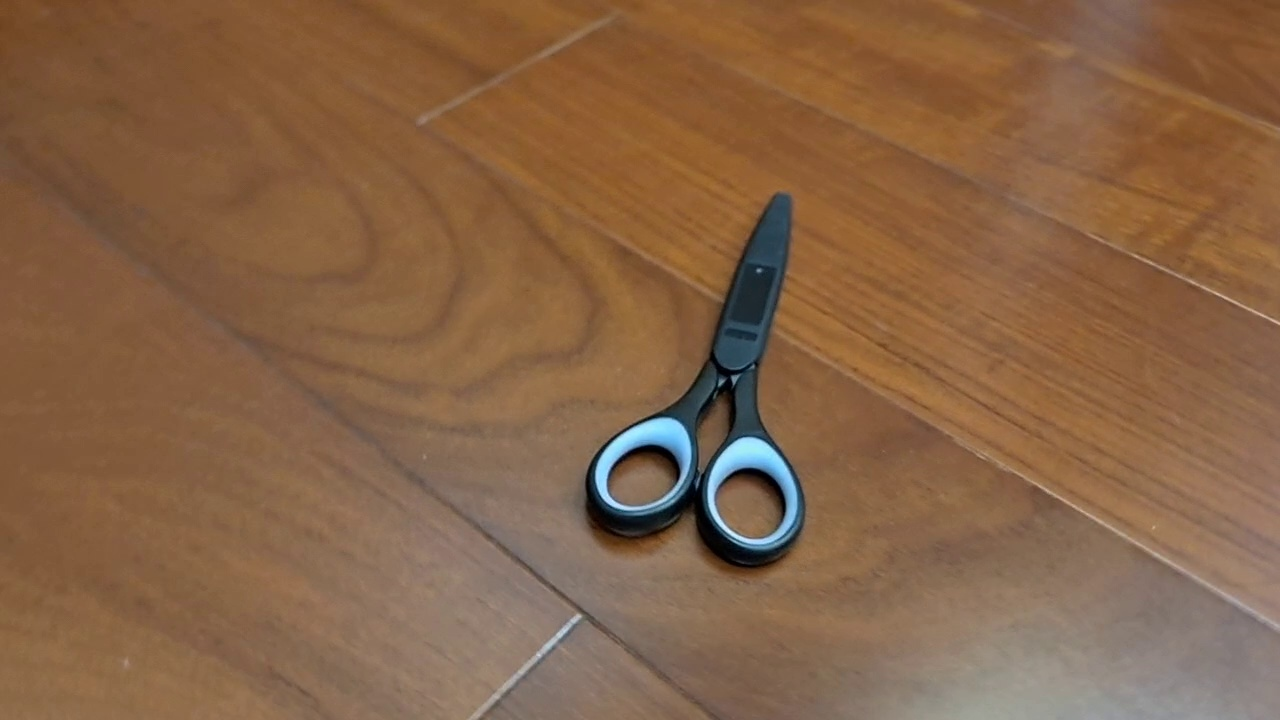scissors: (583, 190, 807, 569)
